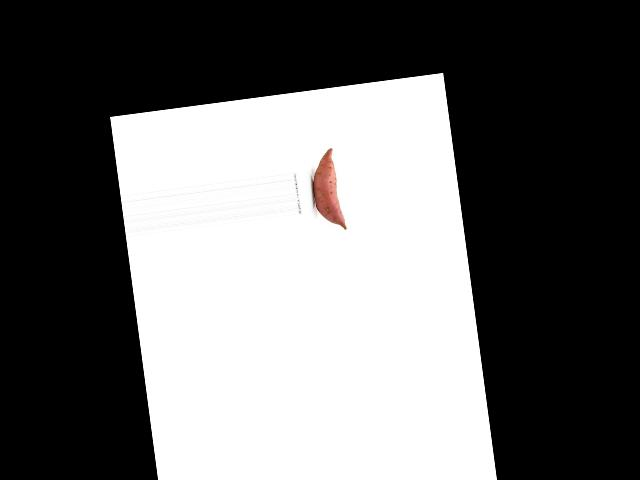sweet_potato: (307, 146, 351, 233)
